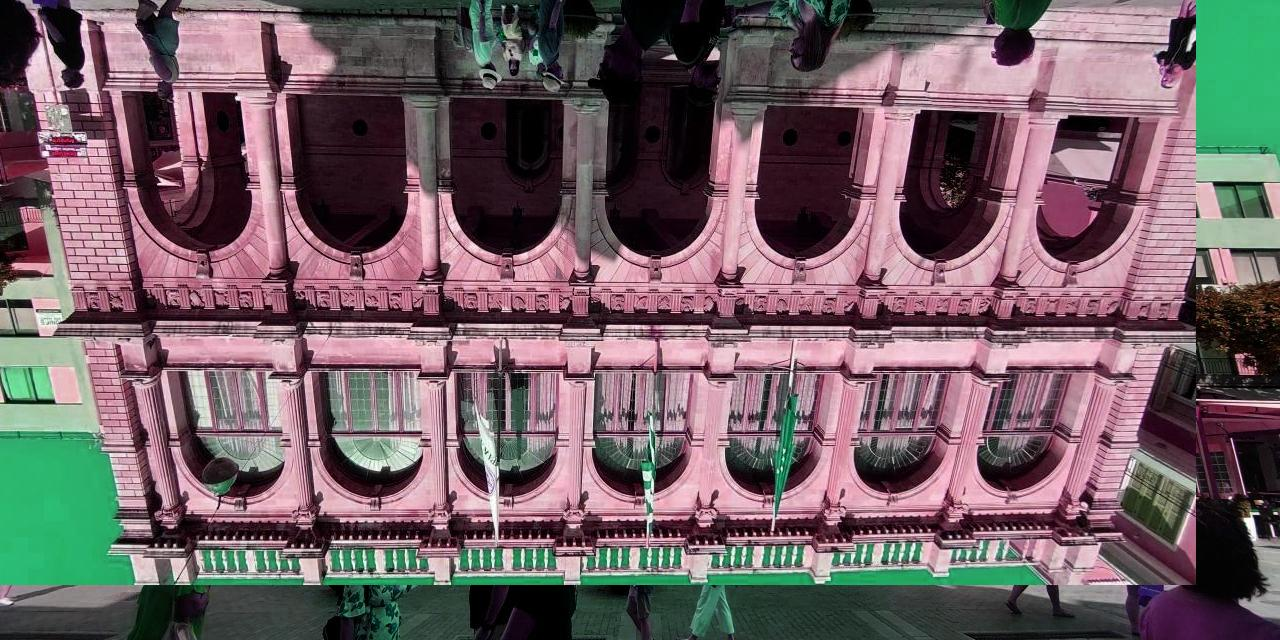Loggia: (1, 1, 1197, 586)
